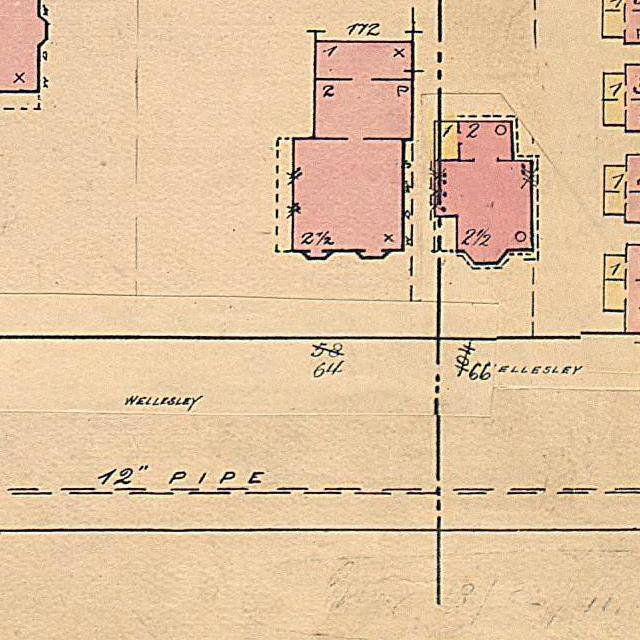building-footprints: (292, 41, 413, 259), (435, 122, 533, 264)
